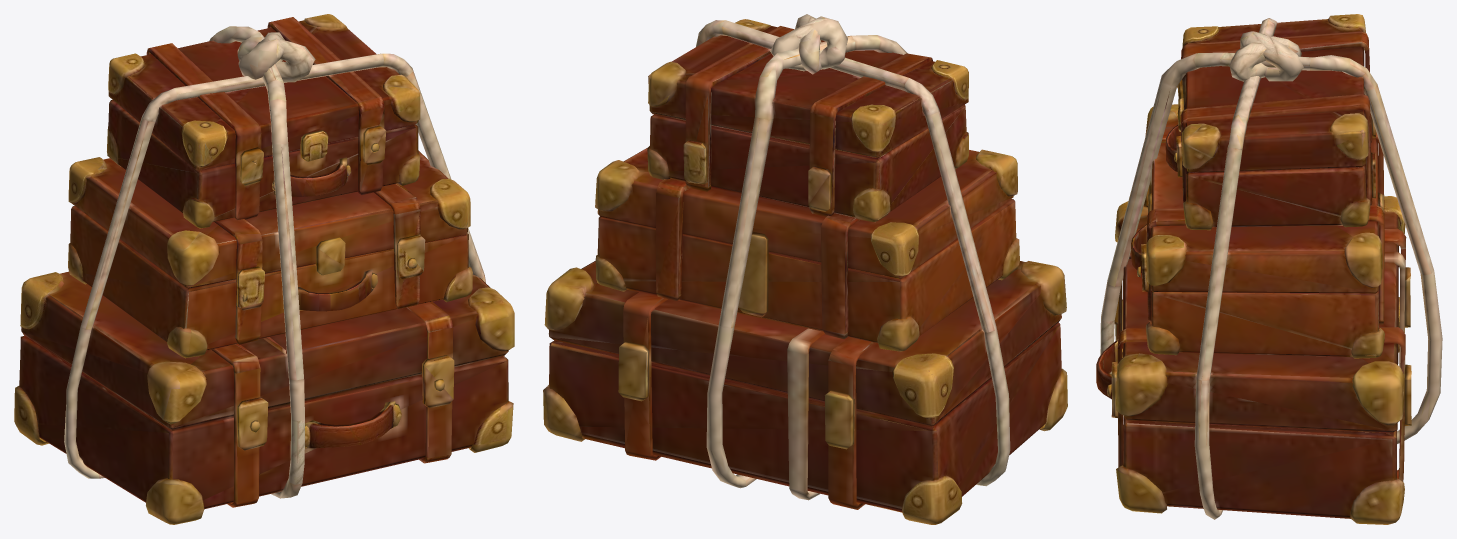
The model's file is trade_trunks.glb.
3 views of the same model, side by side, from view 1: azimuth 30°, elevation 25°; view 2: azimuth 150°, elevation 25°; view 3: azimuth 270°, elevation 25° (orthographic). The views are drawn at different scales.
Size of the model in its own units: 1 by 0.9989 by 0.7693.
Materials: 1 (1 with a texture image).
